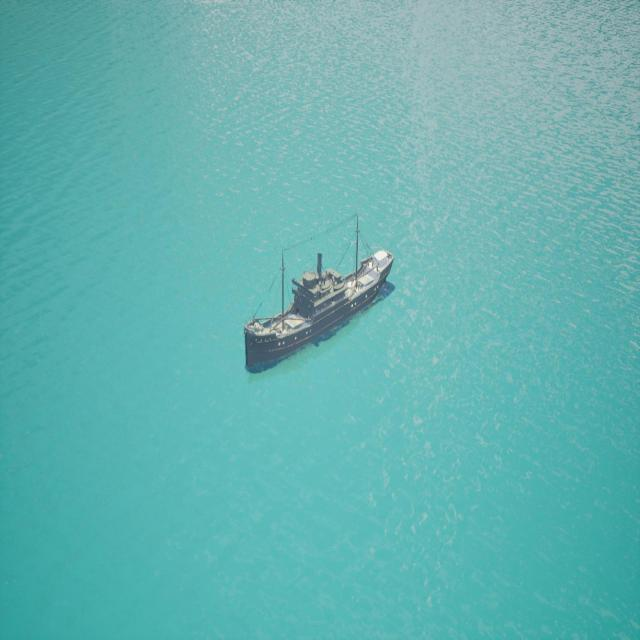fishing ship: (244, 245, 396, 378)
